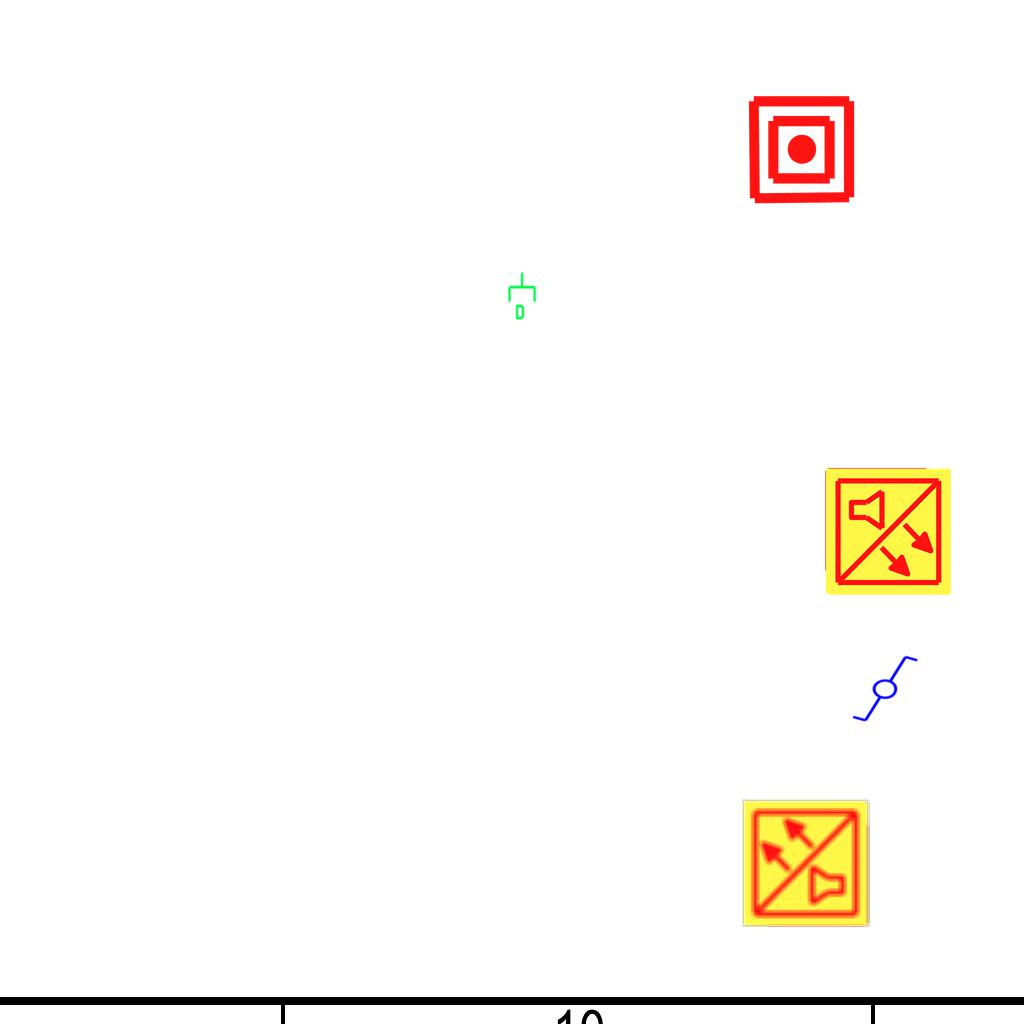Datenanschluss_einfach: (506, 271, 540, 321)
NAM-Nichtautomatischer_Melder: (745, 93, 858, 206)
OKW_Multisensormelder_(Kombination_optischer_Rauch-Kahlenmonoxid_Waerme-Melder): (740, 797, 872, 929), (822, 466, 954, 598)
Wechselschalter: (842, 652, 920, 724)
